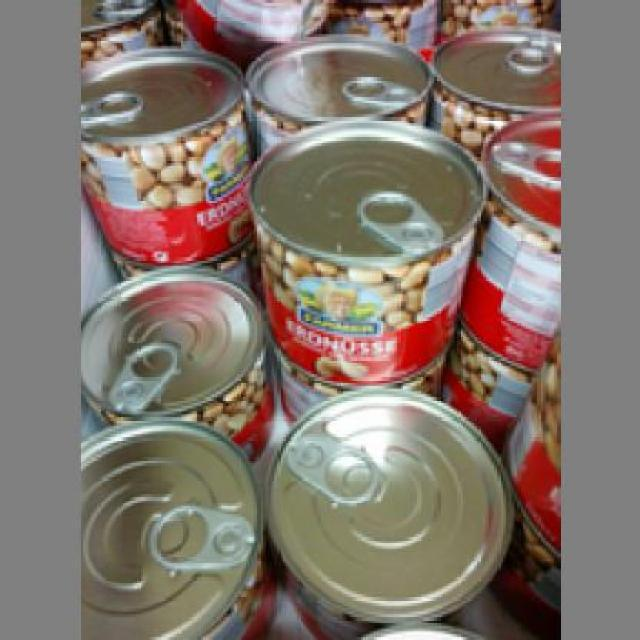Nuts: (240, 114, 489, 383), (77, 46, 257, 266), (457, 108, 557, 364)
